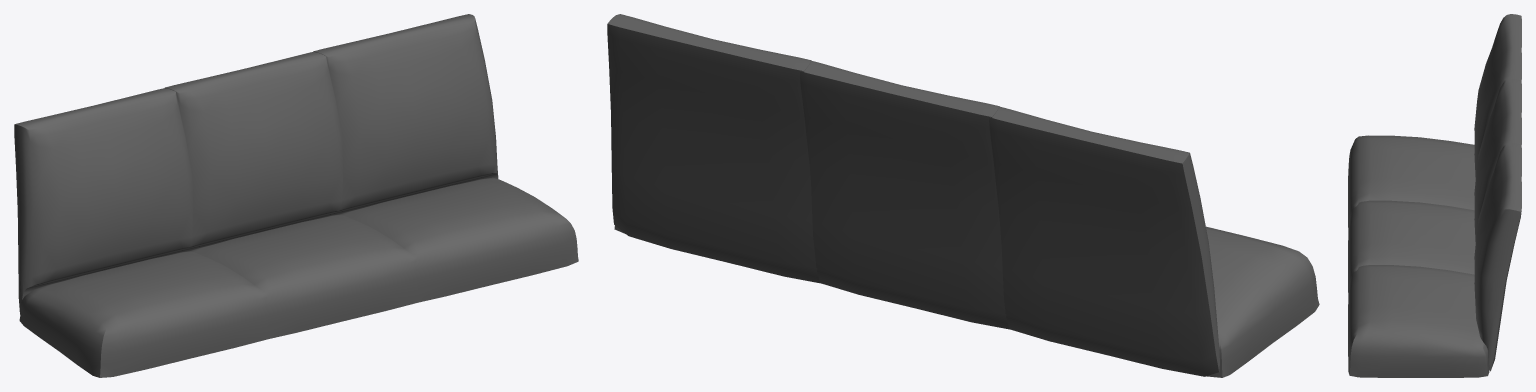
File: Sofa_215_1_sofa_215_1.obj
3 renders of one model, left to right at view 1: azimuth 30°, elevation 25°; view 2: azimuth 150°, elevation 25°; view 3: azimuth 270°, elevation 25°, orthographic. The views are drawn at different scales.
Size of the model in its own units: 2.48 by 0.9317 by 0.876.
